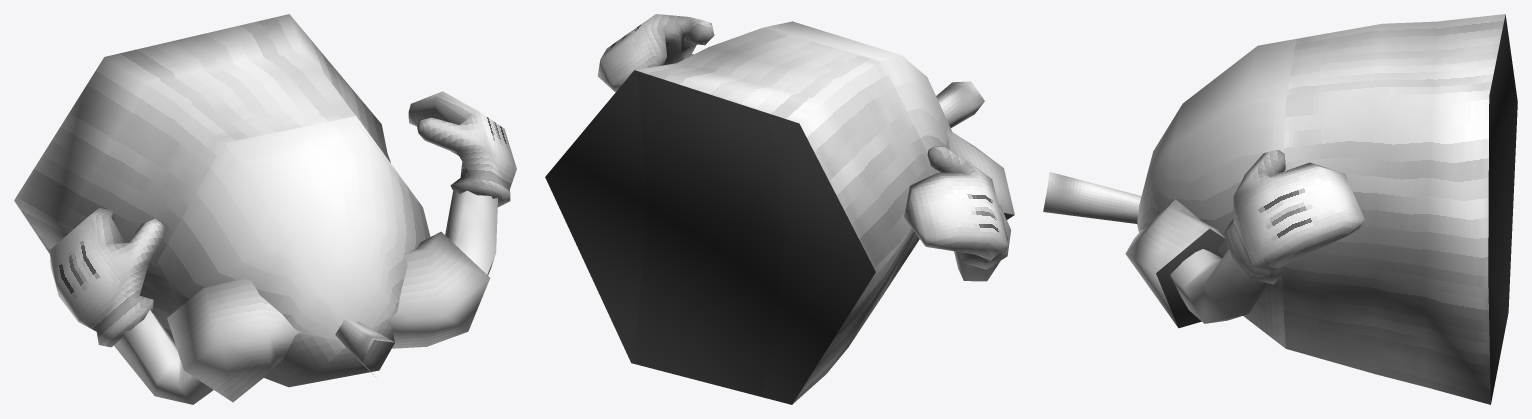
The model's file is torso_sd.glb.
3 renders of one model, left to right at view 1: azimuth 30°, elevation 25°; view 2: azimuth 150°, elevation 25°; view 3: azimuth 270°, elevation 25°, orthographic. The views are drawn at different scales.
Parts seen in each view (by area): view 1: torso-top, torso-bot, sleeves, hands, arms, neck; view 2: torso-bot, hands, torso-top, sleeves, neck, arms; view 3: torso-bot, torso-top, hands, sleeves, arms, neck.
Boxes of the visible parts, x1,y1,x2,y2 form: torso-top: (157, 116, 430, 387); torso-bot: (14, 14, 390, 341); sleeves: (167, 231, 489, 402); hands: (50, 91, 516, 347); arms: (114, 190, 497, 404); neck: (335, 320, 394, 377); torso-bot: (545, 27, 937, 404); hands: (597, 14, 1011, 269); torso-top: (764, 21, 952, 294); sleeves: (947, 129, 1014, 219); neck: (936, 81, 984, 127); arms: (954, 251, 1000, 281); torso-bot: (1282, 14, 1517, 404); torso-top: (1137, 39, 1296, 348); hands: (1223, 150, 1364, 284); sleeves: (1125, 199, 1225, 328); arms: (1170, 249, 1267, 323); neck: (1043, 172, 1141, 223).
Size of the model in its own units: 2.87 by 1.95 by 2.73.
6 materials, 6 textured.
